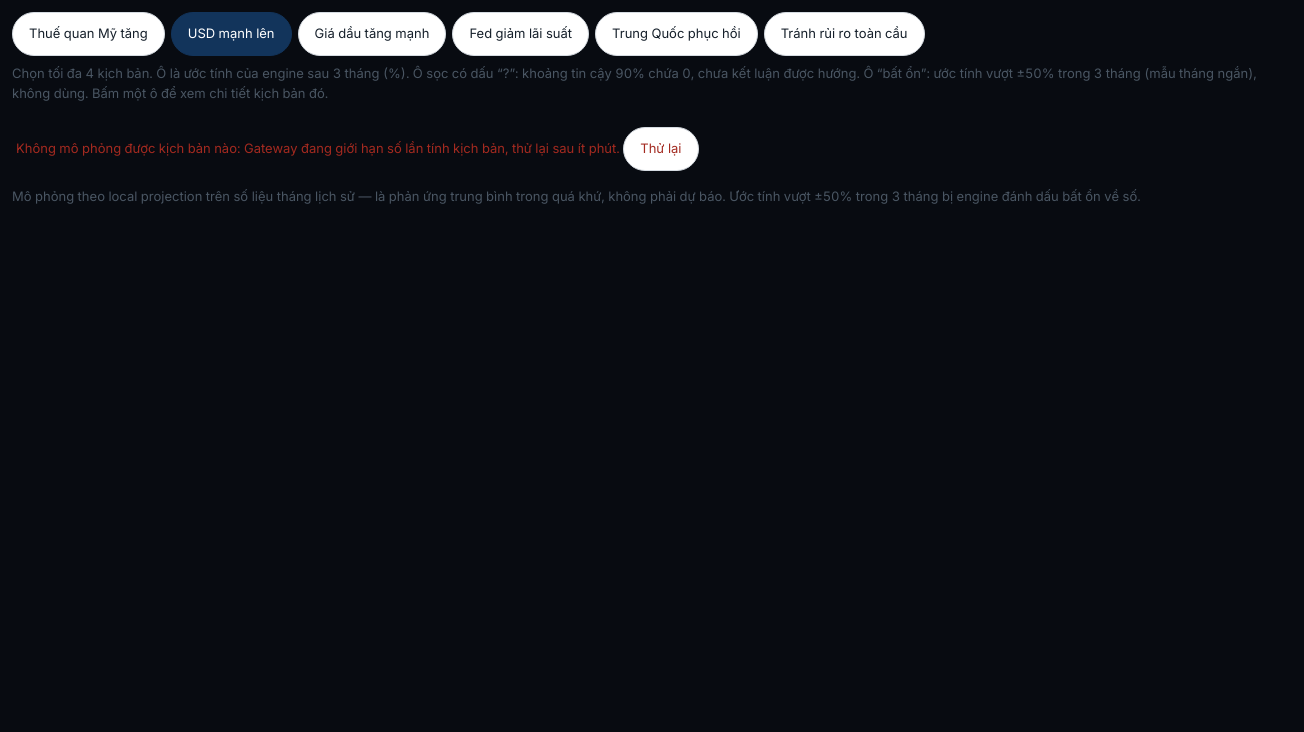
it: W1 so sánh kịch bản › mọi kịch bản lỗi (VD 429) -> báo lỗi rõ ràng + nút thử lại gọi lại Gateway
Expected: the message with test id "scenario-compare-error" shows "Gateway đang giới hạn số lần tính", [244, 140, 620, 156]
Click the button with test id "scenario-compare-retry". click: (661,149)
box: [623, 127, 698, 171]
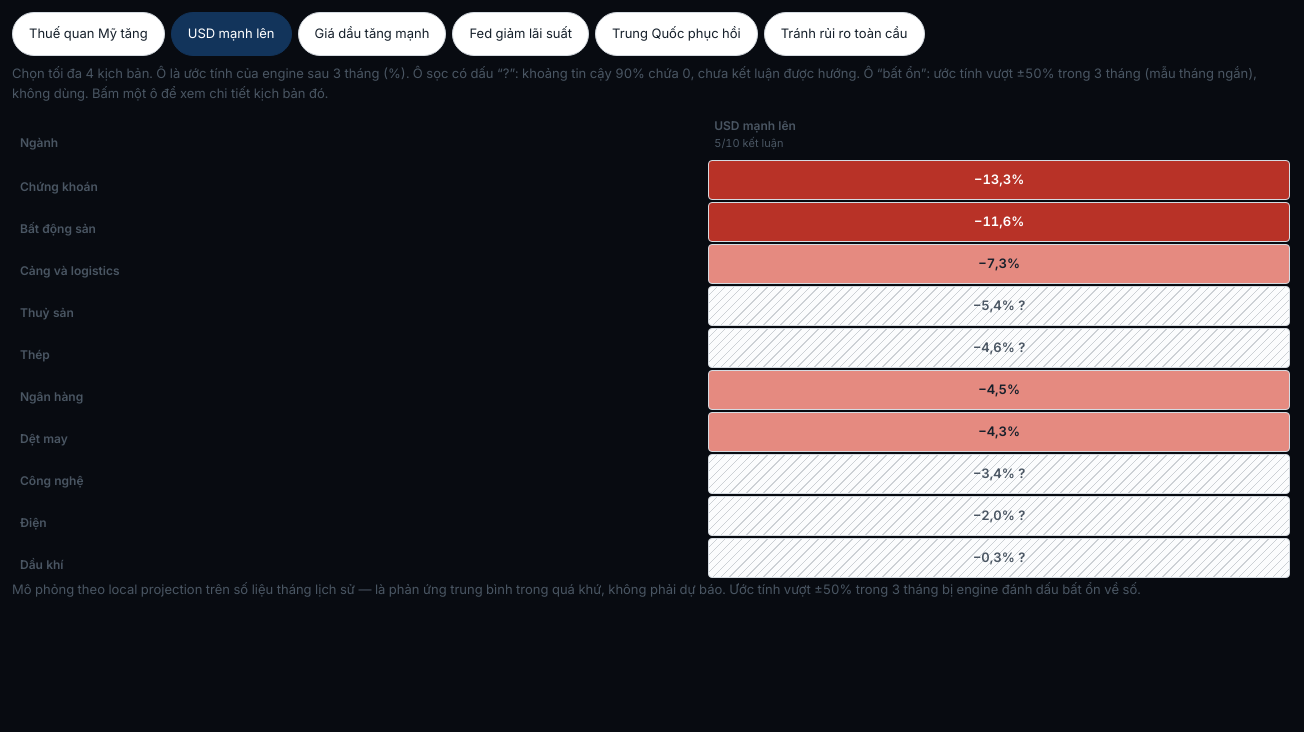
Expected: the table with test id "scenario-heat" is shown
Expected: the message with test id "scenario-compare-error" is gone
